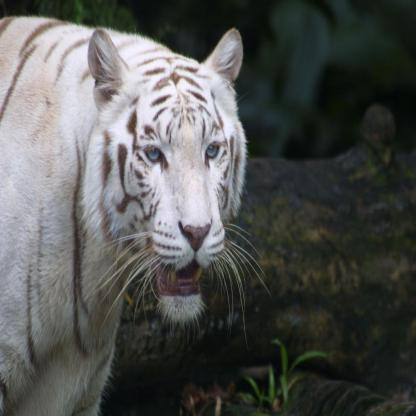Tiger: (0, 17, 272, 416)
